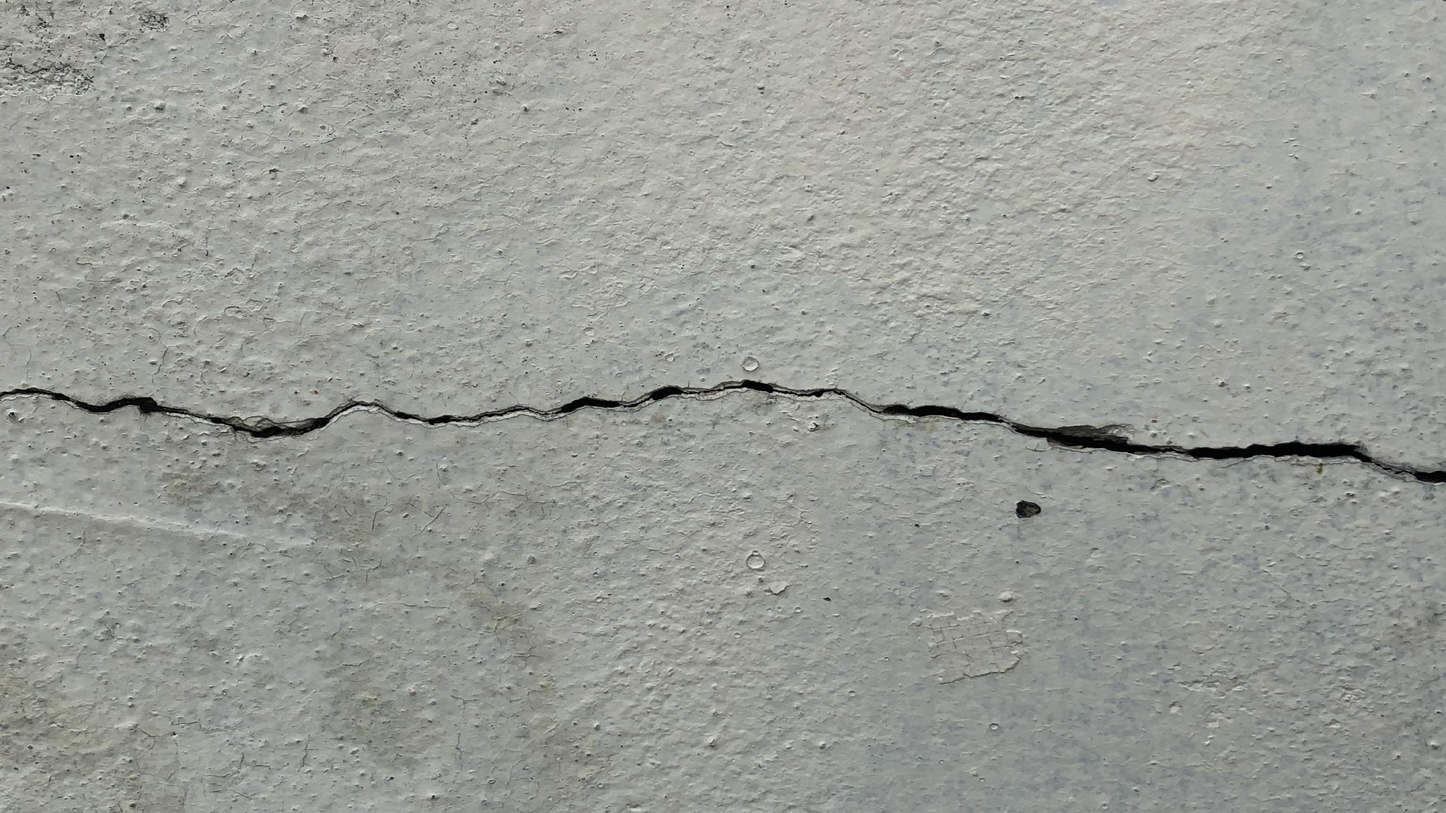crack: (0, 381, 1445, 483)
